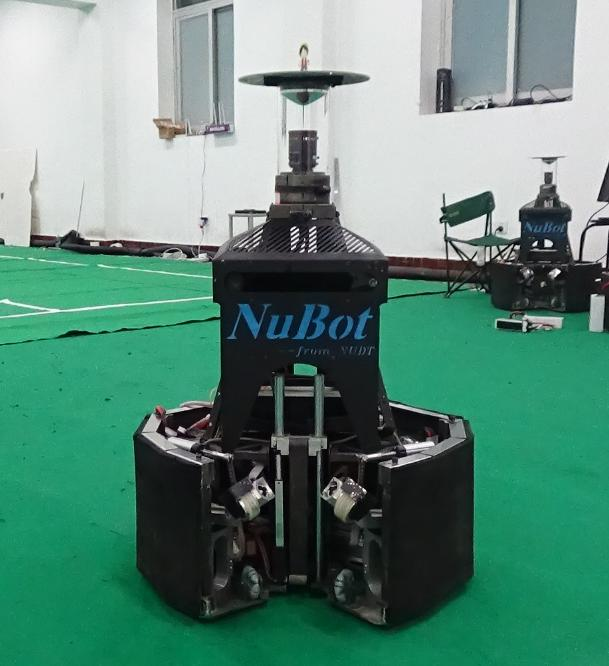robot: (127, 44, 478, 643)
